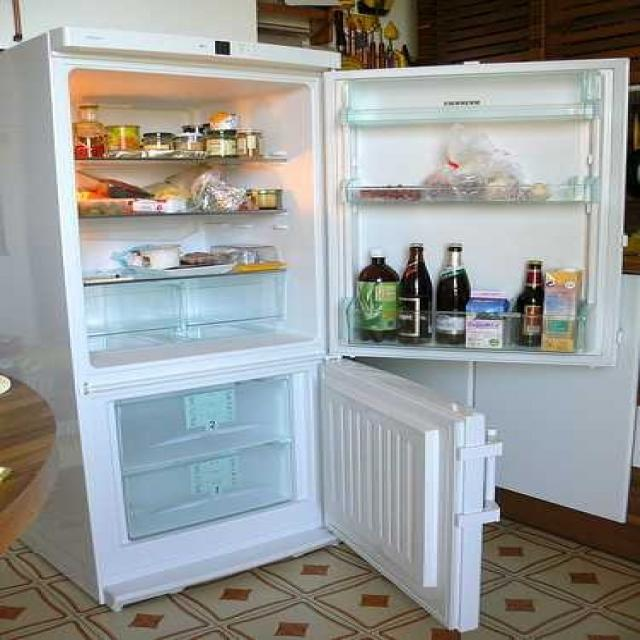refrigerator: (46, 27, 488, 573)
